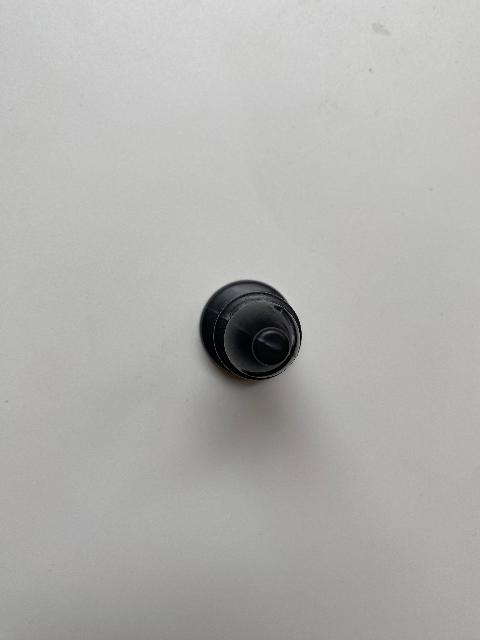black-bishop: (198, 279, 302, 381)
